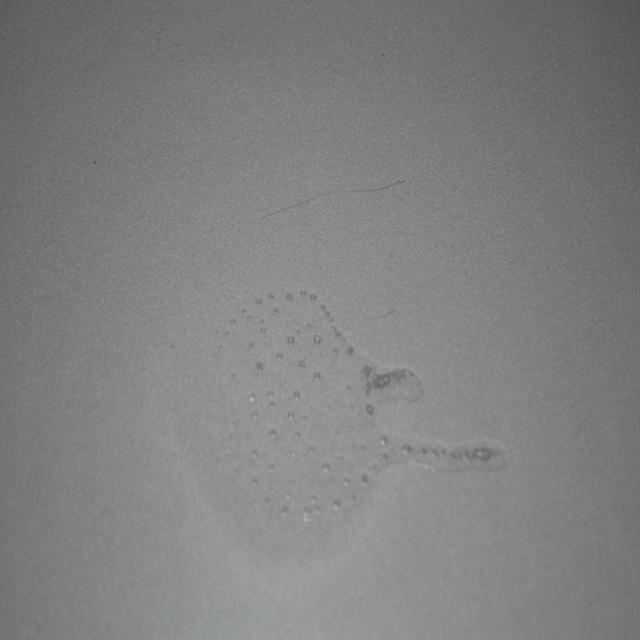runs: (187, 293, 508, 550)
scratch: (251, 168, 412, 226)
